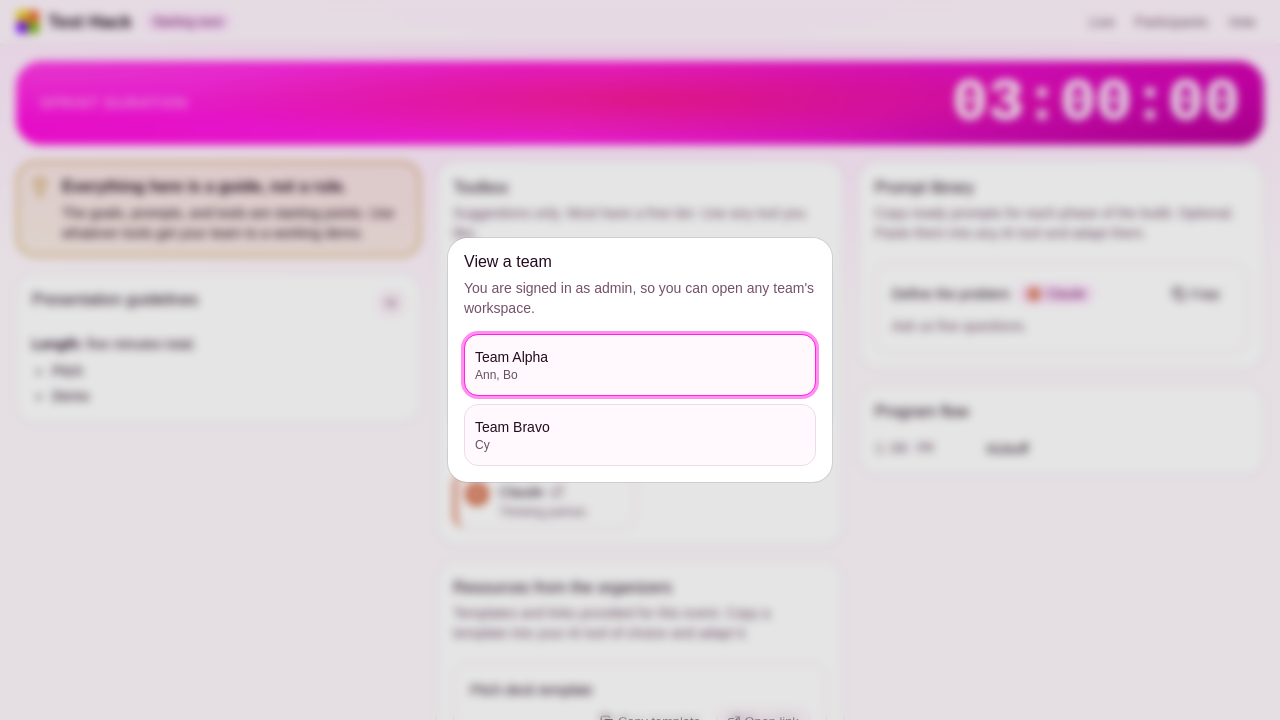
Test: admin can open any team's workspace from the participant page
Step 1. Click the button "Team Bravo Cy" → (512, 427), box left=464, top=404, right=816, bottom=466
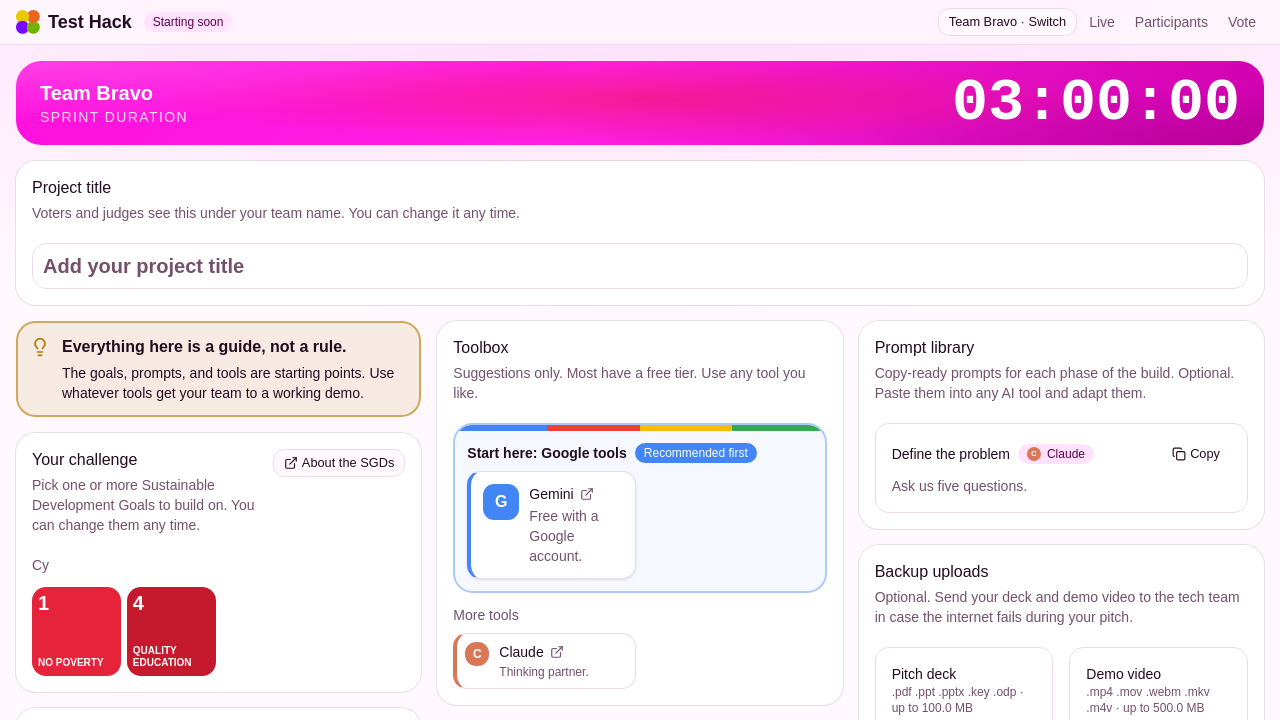
Expected: the button "Team Bravo · Switch" is shown, left=938, top=8, right=1077, bottom=36
